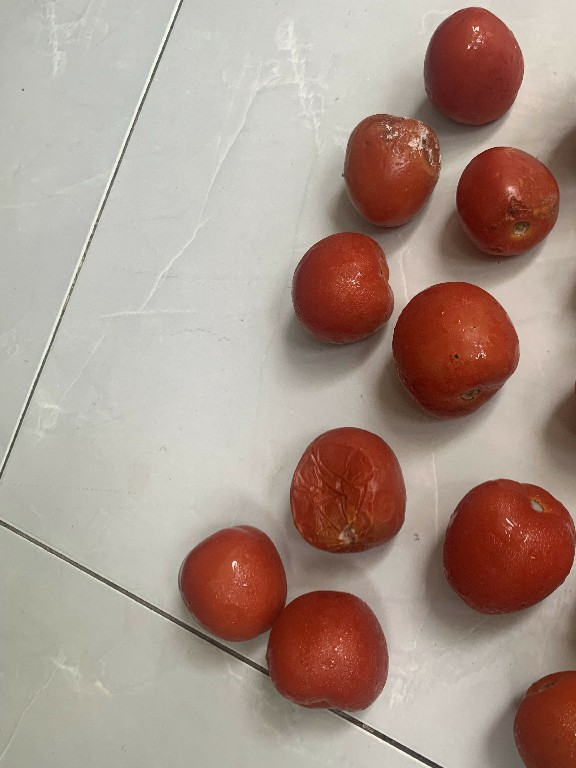NG: (282, 420, 420, 565), (447, 134, 564, 265), (332, 108, 439, 233)
OK: (436, 463, 575, 623), (385, 274, 529, 422), (257, 582, 393, 721), (172, 517, 310, 645), (415, 3, 540, 132), (280, 226, 393, 345)
